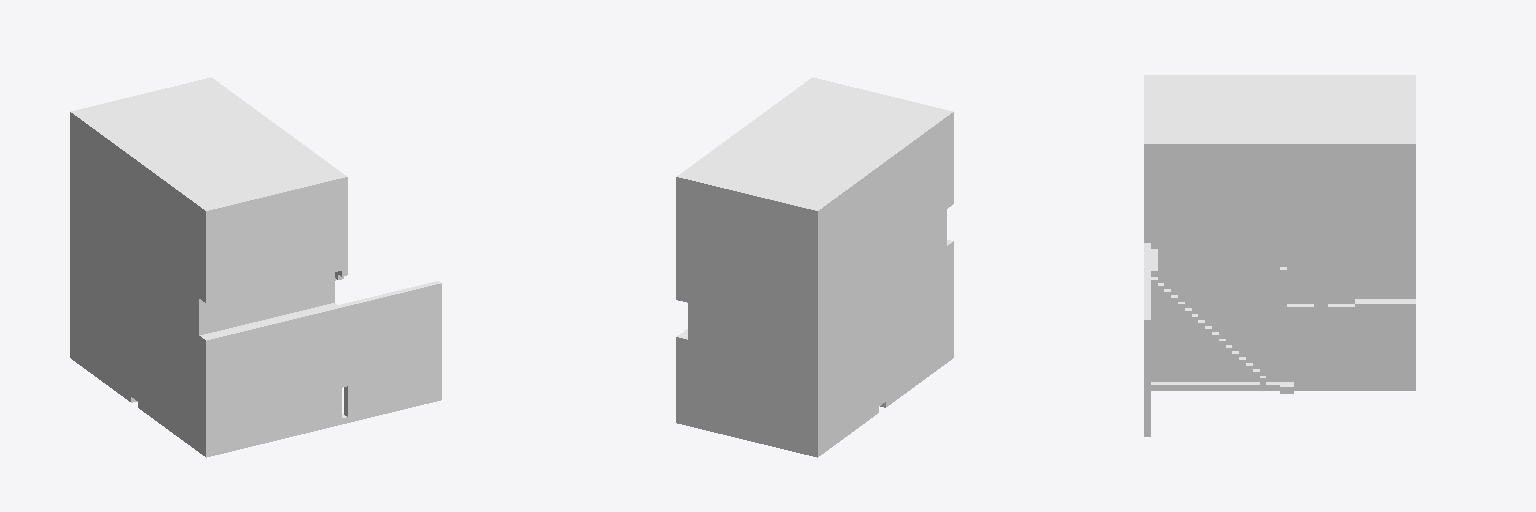
Rendered from 6uniteled.obj.
3 views of the same model, side by side, from view 1: azimuth 30°, elevation 25°; view 2: azimuth 150°, elevation 25°; view 3: azimuth 270°, elevation 25° (orthographic).
Visible parts, largest first — view 1: object 1; view 2: object 1; view 3: object 1.
Boxes of the visible parts, box(x1,y1,x2,y2) form: object 1: box(70, 77, 441, 457); object 1: box(676, 77, 953, 457); object 1: box(1144, 75, 1415, 436).
Size of the model in its own units: 4 by 4 by 4.